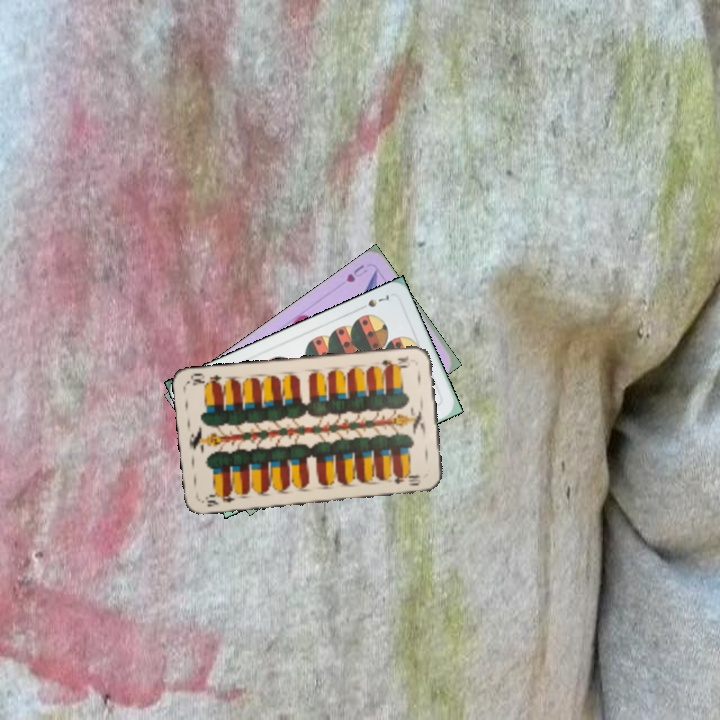E10: (201, 487, 239, 509), (377, 352, 411, 371)
HU: (342, 260, 370, 285)
S7: (355, 290, 392, 313)
